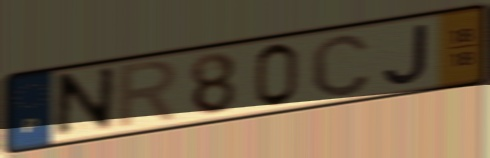0: (251, 40, 302, 109)
8: (188, 51, 238, 117)
C: (308, 30, 373, 99)
J: (380, 21, 431, 87)
N: (50, 63, 118, 144)
R: (113, 56, 183, 134)
